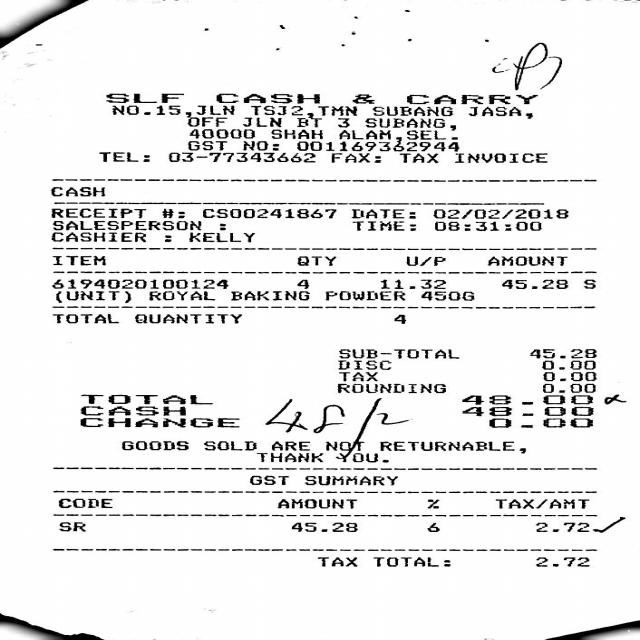text: (379, 440, 524, 453), (295, 141, 457, 151), (49, 279, 226, 288), (80, 417, 237, 427), (166, 152, 314, 162), (460, 394, 593, 405), (431, 208, 568, 218), (200, 208, 336, 218), (52, 220, 198, 229), (405, 94, 536, 104), (460, 406, 590, 416), (109, 105, 233, 115), (78, 394, 210, 403), (336, 349, 457, 358), (364, 118, 454, 130), (133, 313, 240, 323), (434, 220, 540, 230), (488, 417, 591, 427), (215, 92, 317, 102), (336, 383, 444, 392), (492, 498, 588, 508), (79, 406, 184, 415), (50, 208, 144, 218), (50, 231, 144, 241), (304, 476, 396, 486), (454, 152, 545, 162), (54, 291, 128, 302), (372, 106, 452, 116), (487, 256, 567, 266), (322, 290, 402, 300), (276, 498, 356, 508), (230, 290, 308, 300), (372, 557, 451, 566), (255, 452, 322, 462), (467, 106, 532, 116), (349, 208, 414, 218), (187, 231, 252, 241), (147, 290, 212, 300), (50, 313, 115, 323), (120, 440, 185, 450), (350, 220, 413, 230), (102, 94, 180, 102), (289, 522, 356, 531), (500, 279, 566, 288), (528, 348, 594, 357), (187, 129, 252, 138), (379, 279, 444, 288), (50, 255, 107, 265), (532, 522, 589, 532), (249, 105, 304, 115), (49, 186, 104, 196), (533, 556, 588, 566), (336, 129, 389, 139), (202, 440, 255, 450), (97, 151, 148, 161), (55, 498, 111, 507), (405, 129, 455, 139), (330, 152, 379, 162), (338, 452, 387, 462), (336, 360, 389, 369), (541, 360, 594, 369), (541, 372, 594, 381), (541, 383, 594, 392), (419, 291, 471, 300), (270, 129, 321, 138), (317, 105, 357, 115), (185, 116, 225, 126), (404, 255, 444, 265), (336, 371, 376, 381), (317, 556, 357, 566), (186, 140, 224, 150), (399, 152, 437, 162), (270, 440, 308, 450), (324, 440, 362, 450), (239, 117, 280, 126), (296, 256, 336, 265), (248, 475, 288, 484), (242, 140, 277, 150), (58, 521, 86, 530), (295, 117, 321, 126), (350, 93, 372, 103), (160, 208, 183, 217), (425, 499, 440, 508), (426, 522, 439, 531), (336, 118, 348, 127), (296, 279, 308, 288), (583, 279, 594, 288), (394, 314, 404, 323)
